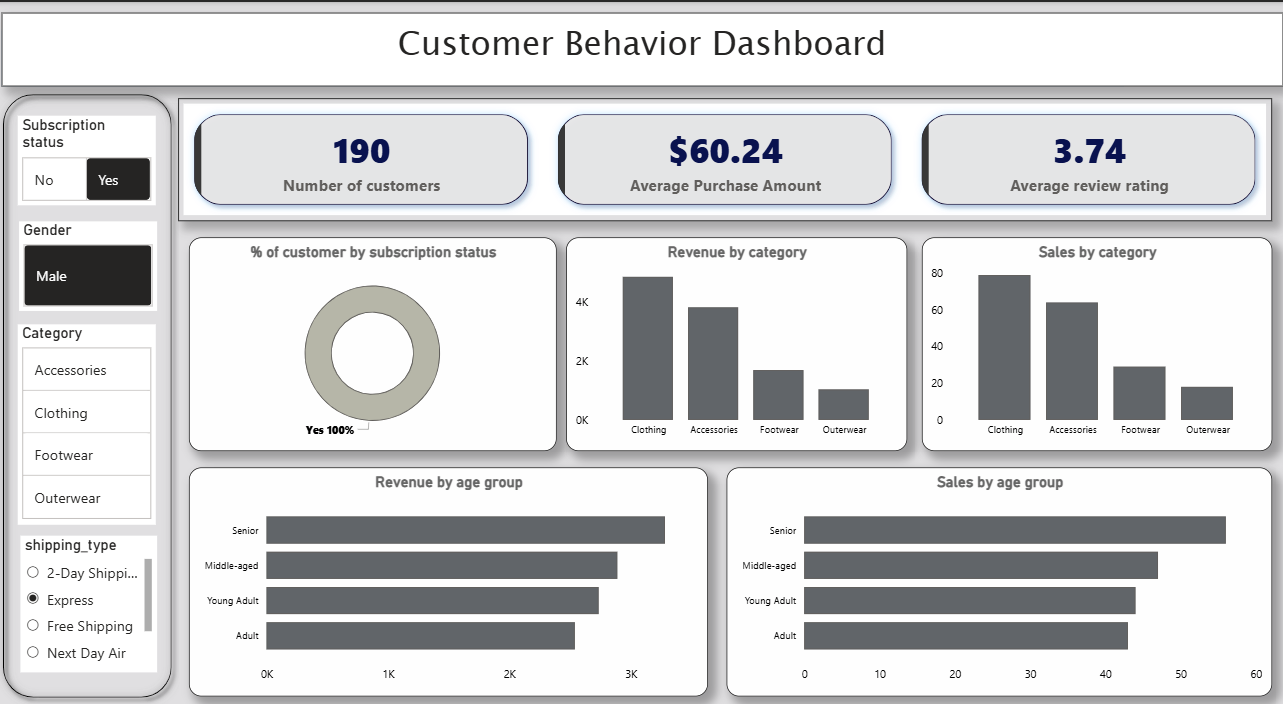

The dashboard page shown, as its layout file describes it:
{"tool":"powerbi","page":{"name":"Page 1","canvas":[1451,792],"ordinal":0},"visuals":[{"type":"cardVisual","fields":{"Data":["my_database customer.Number of customers","my_database customer.Average Purchase Amount","my_database customer.Average review rating"]},"box":[206.4,108.5,1232.5,138.6],"z":0},{"type":"shape","box":[7.7,13.8,1264.2,81.4],"z":1000},{"type":"textbox","box":[7.5,12.1,1443.5,82.9],"z":2000},{"type":"donutChart","title":"% of customer by subscription status","fields":{"Category":["my_database customer.subscription_status"],"Y":["CountNonNull(my_database customer.customer_id)"]},"box":[218.5,265.2,414.4,241.1],"z":3000},{"type":"clusteredColumnChart","title":"Revenue by category","fields":{"Category":["my_database customer.category"],"Y":["Sum(my_database customer.purchase_amount)"]},"box":[643.4,265.2,384.2,241.1],"z":4000},{"type":"clusteredColumnChart","title":"Sales by category","fields":{"Category":["my_database customer.category"],"Y":["CountNonNull(my_database customer.purchase_amount)"]},"box":[1044.2,265.2,394.8,241.1],"z":5000},{"type":"shape","box":[0,94.9,207.9,697.6],"z":6000},{"type":"advancedSlicerVisual","title":"Subscription status","fields":{"Values":["my_database customer.subscription_status"]},"box":[25.6,128.1,155.2,101],"z":7000},{"type":"advancedSlicerVisual","title":"Gender","fields":{"Values":["my_database customer.gender"]},"box":[27.1,247.1,155.2,101],"z":8000},{"type":"advancedSlicerVisual","title":"Category","fields":{"Values":["my_database customer.category"]},"box":[25.6,363.1,155.2,226],"z":9000},{"type":"listSlicer","fields":{"Values":["my_database customer.shipping_type"]},"box":[28.6,601.2,153.7,153.7],"z":10000},{"type":"clusteredBarChart","title":"Revenue by age group","fields":{"Y":["Sum(my_database customer.purchase_amount)"],"Category":["my_database customer.age_group"]},"box":[218.5,524.3,584.6,257.7],"z":11000},{"type":"clusteredBarChart","title":"Sales by age group","fields":{"Category":["my_database customer.age_group"],"Y":["CountNonNull(my_database customer.customer_id)"]},"box":[824.2,524.3,614.7,257.7],"z":12000}]}

Visuals, with their boxes in screenshot pixels (x1, y1, x2, y2), scaled from the page's 1451x792 canvas onto the 1283x704 screenshot:
cardVisual - my_database customer.Number of customers x my_database customer.Average Purchase Amount: 183 96 1272 220
shape: 7 12 1125 85
textbox: 7 11 1282 84
"% of customer by subscription status" donutChart: 193 236 560 450
"Revenue by category" clusteredColumnChart: 569 236 909 450
"Sales by category" clusteredColumnChart: 923 236 1272 450
shape: 0 84 184 703
"Subscription status" advancedSlicerVisual: 23 114 160 204
"Gender" advancedSlicerVisual: 24 220 161 309
"Category" advancedSlicerVisual: 23 323 160 524
listSlicer - my_database customer.shipping_type: 25 534 161 671
"Revenue by age group" clusteredBarChart: 193 466 710 695
"Sales by age group" clusteredBarChart: 729 466 1272 695
